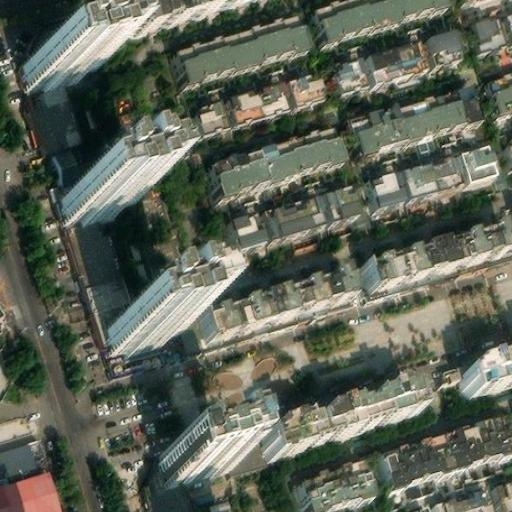building: (27, 80, 146, 365), (183, 278, 353, 347), (143, 425, 277, 512), (361, 216, 509, 288), (268, 379, 418, 449), (379, 415, 512, 488), (209, 126, 342, 198), (188, 71, 327, 139), (346, 86, 480, 156), (225, 183, 361, 250), (175, 15, 305, 81), (366, 145, 497, 210), (200, 272, 333, 336), (332, 29, 461, 94), (315, 0, 445, 40), (159, 426, 237, 479), (298, 459, 375, 512), (62, 167, 134, 218), (21, 36, 93, 87), (105, 300, 177, 351), (0, 433, 50, 473), (432, 490, 491, 512), (470, 16, 502, 52)
